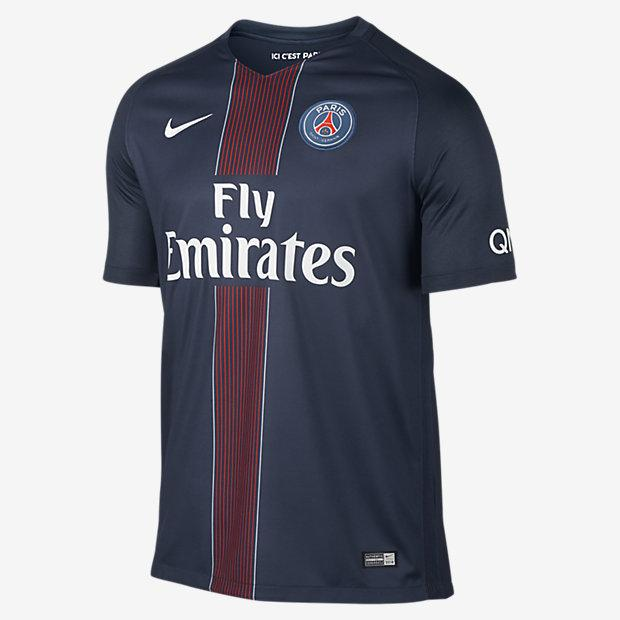teeshirt: (101, 11, 540, 620)
